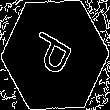P_SE: (27, 27, 83, 83)
